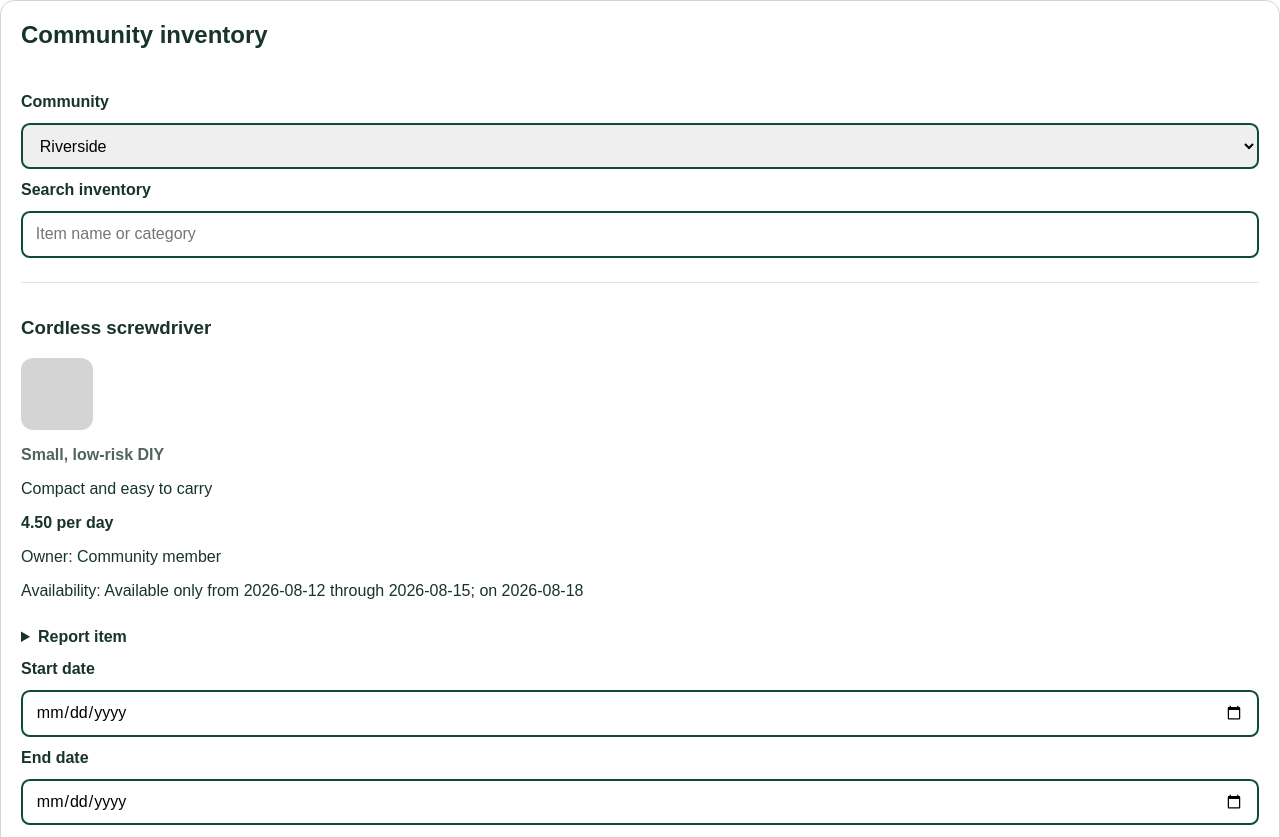
Test case: ItemSection › shows searchable inventory details and a clear no-result state
The width and height of the screenshot is (1280, 837).
Expected: the heading "Cordless screwdriver" is shown, left=21, top=317, right=211, bottom=338
Expected: the text "Small, low-risk DIY" is shown, left=21, top=446, right=164, bottom=463
Type "leisure" into the search field labelled "Search inventory" at point(640, 234), box left=21, top=211, right=1259, bottom=258
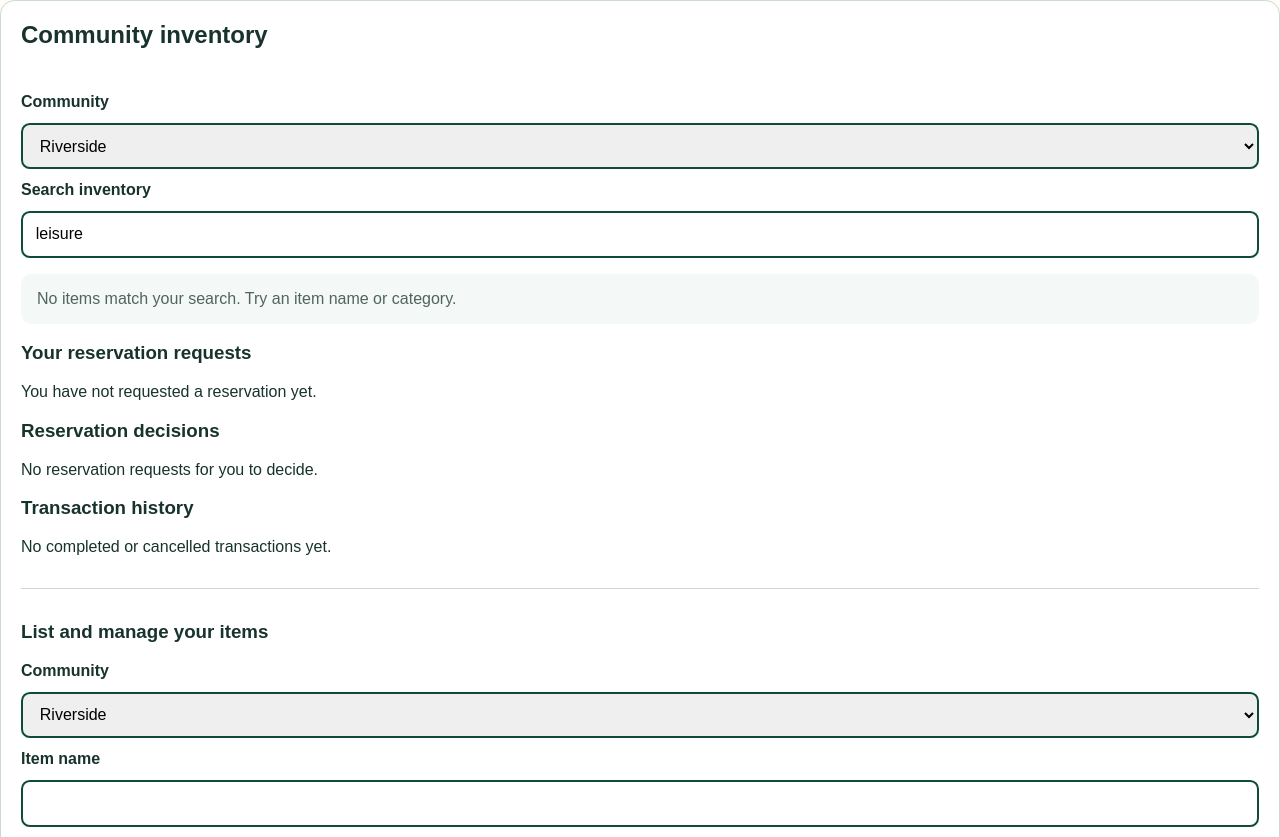
Now the text "No items match your search. Try an item name or category." is shown, box left=21, top=274, right=1259, bottom=324
